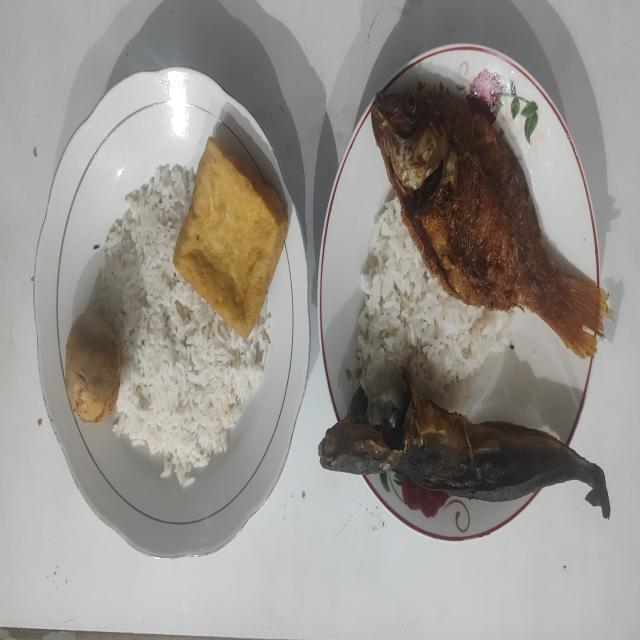ikan_mujair: (370, 82, 612, 358)
nasi_putih: (94, 165, 271, 486), (356, 196, 512, 412)
tahu_goreng: (173, 138, 288, 338)
